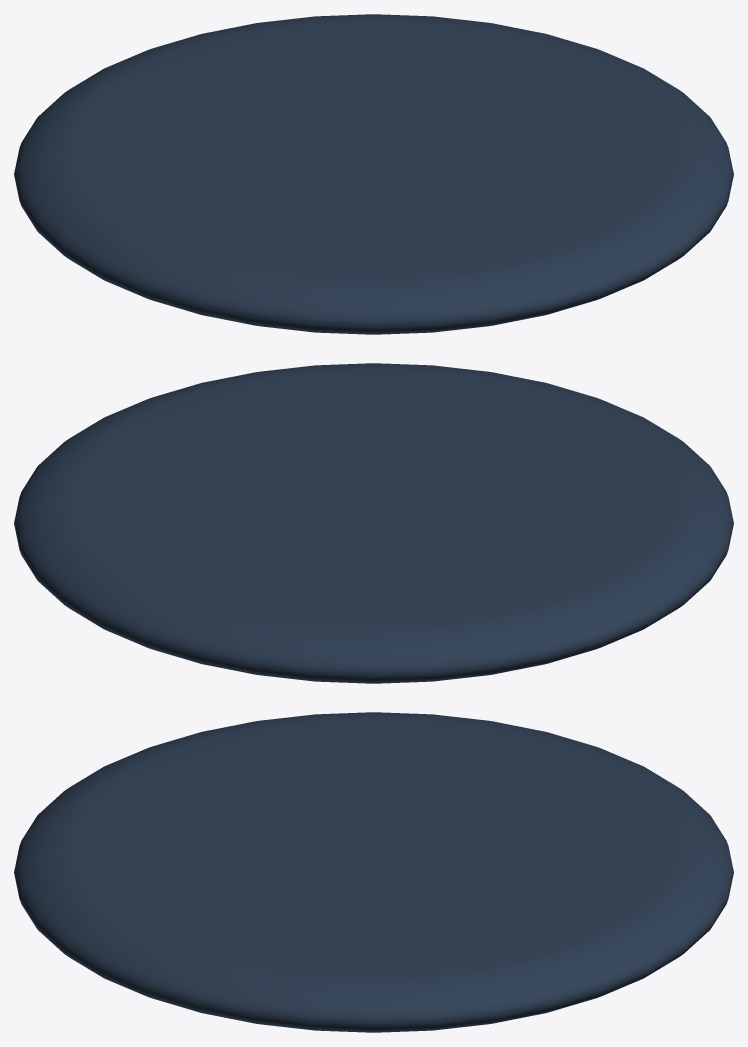
File: SiliconWafer.fbx
3 renders of one model, top to bottom at view 1: azimuth 30°, elevation 25°; view 2: azimuth 150°, elevation 25°; view 3: azimuth 270°, elevation 25°, orthographic.
Parts seen in each view (by area): view 1: SiliconWafer; view 2: SiliconWafer; view 3: SiliconWafer.
Part boxes in pixels (x1,y1,x2,y2): SiliconWafer: (14,14,733,334); SiliconWafer: (14,363,733,683); SiliconWafer: (14,712,733,1032).
Bounding box in the file's own units: 68.79 × 5.18 × 68.79.
